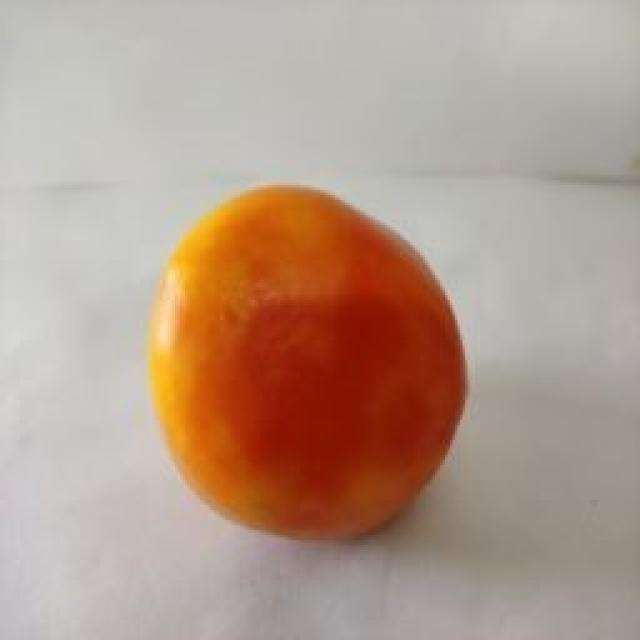unripe: (215, 170, 427, 515)
